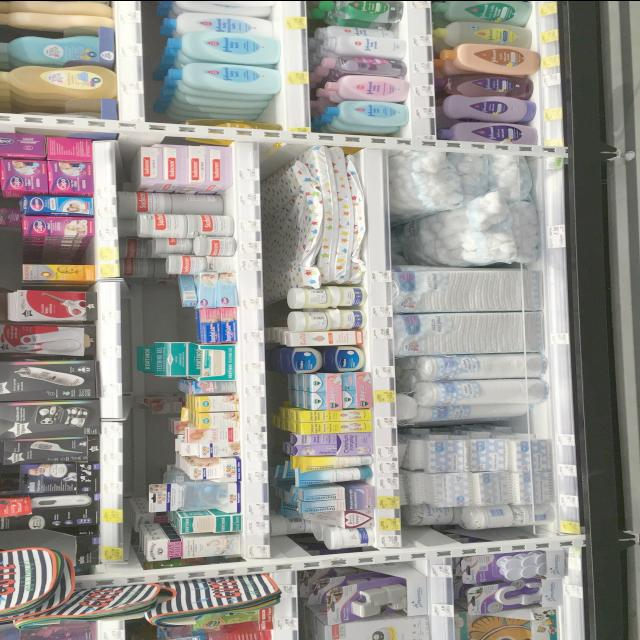empty_space: (150, 311, 192, 337), (23, 246, 85, 262), (199, 108, 277, 116)
